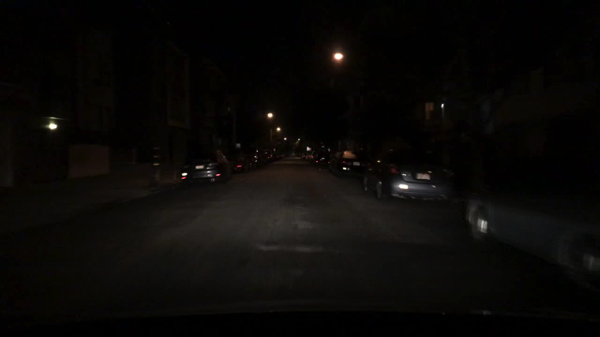car: (464, 163, 599, 292), (360, 147, 454, 203), (176, 148, 233, 185), (333, 150, 360, 176), (227, 148, 252, 173), (313, 150, 330, 168), (253, 148, 265, 168), (329, 152, 340, 173), (266, 149, 274, 160), (308, 152, 313, 162), (273, 153, 280, 160), (279, 152, 286, 159), (305, 152, 309, 160), (301, 152, 305, 160)
